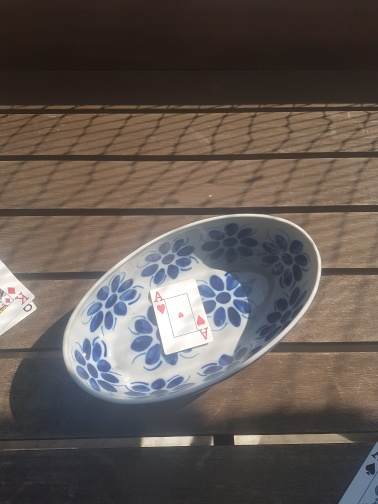ace: (149, 280, 213, 354)
